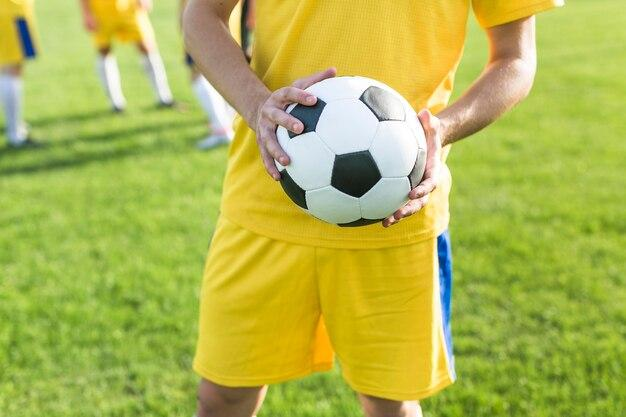ballon_football: (271, 75, 428, 230)
